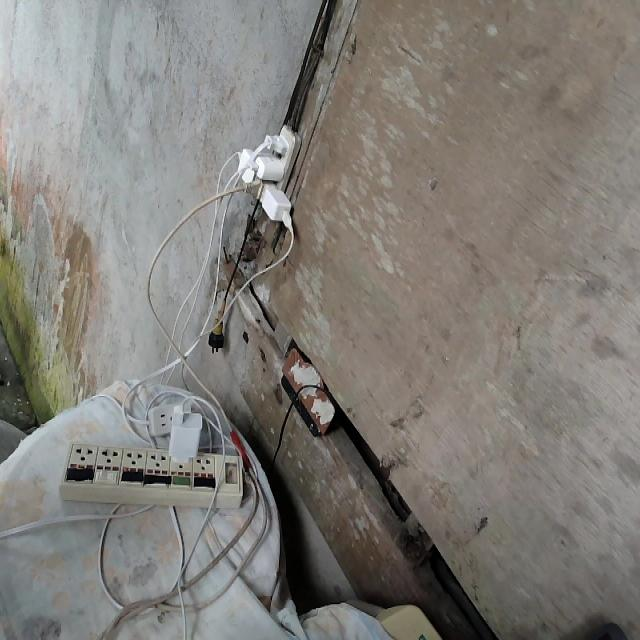-: (231, 120, 298, 236)
